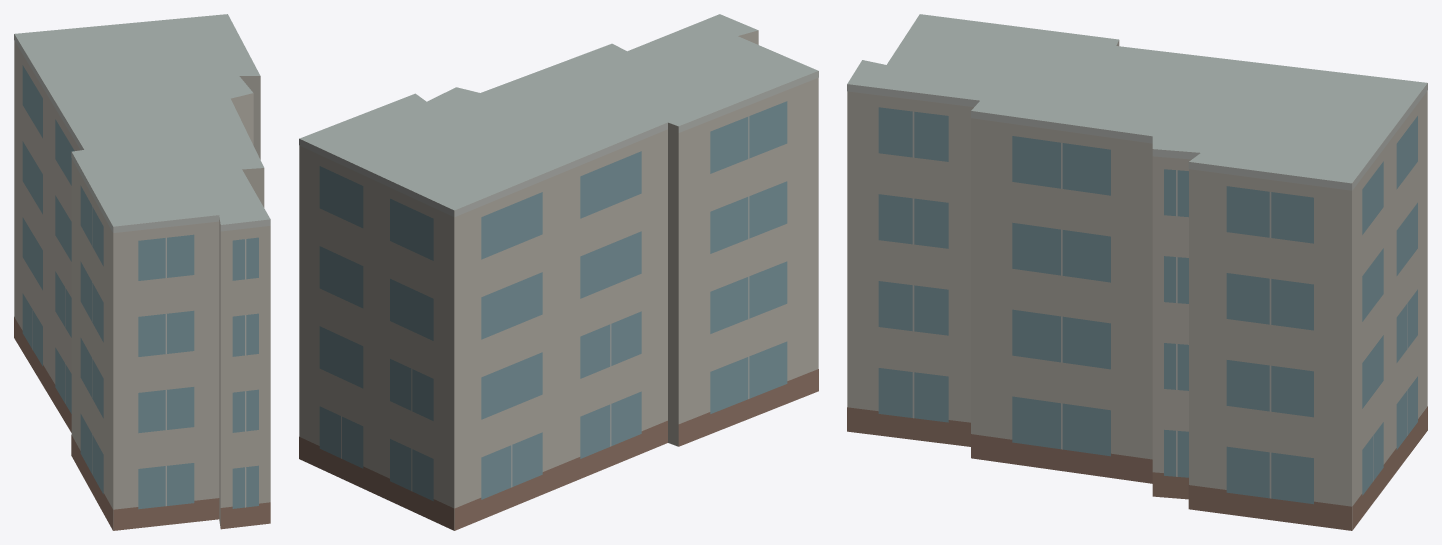
The model's file is survey-upis-32458172.glb.
3 renders of one model, left to right at view 1: azimuth 30°, elevation 25°; view 2: azimuth 150°, elevation 25°; view 3: azimuth 270°, elevation 25°, orthographic. The views are drawn at different scales.
Parts seen in each view (by area): view 1: survey-upis-32458172.tmp; view 2: survey-upis-32458172.tmp; view 3: survey-upis-32458172.tmp.
Part boxes in pixels (x1=…): survey-upis-32458172.tmp: x1=14, y1=14, x2=270, y2=530; survey-upis-32458172.tmp: x1=299, y1=14, x2=818, y2=530; survey-upis-32458172.tmp: x1=847, y1=14, x2=1427, y2=530.
Size of the model in its own units: 12.04 by 11.5 by 17.43.
